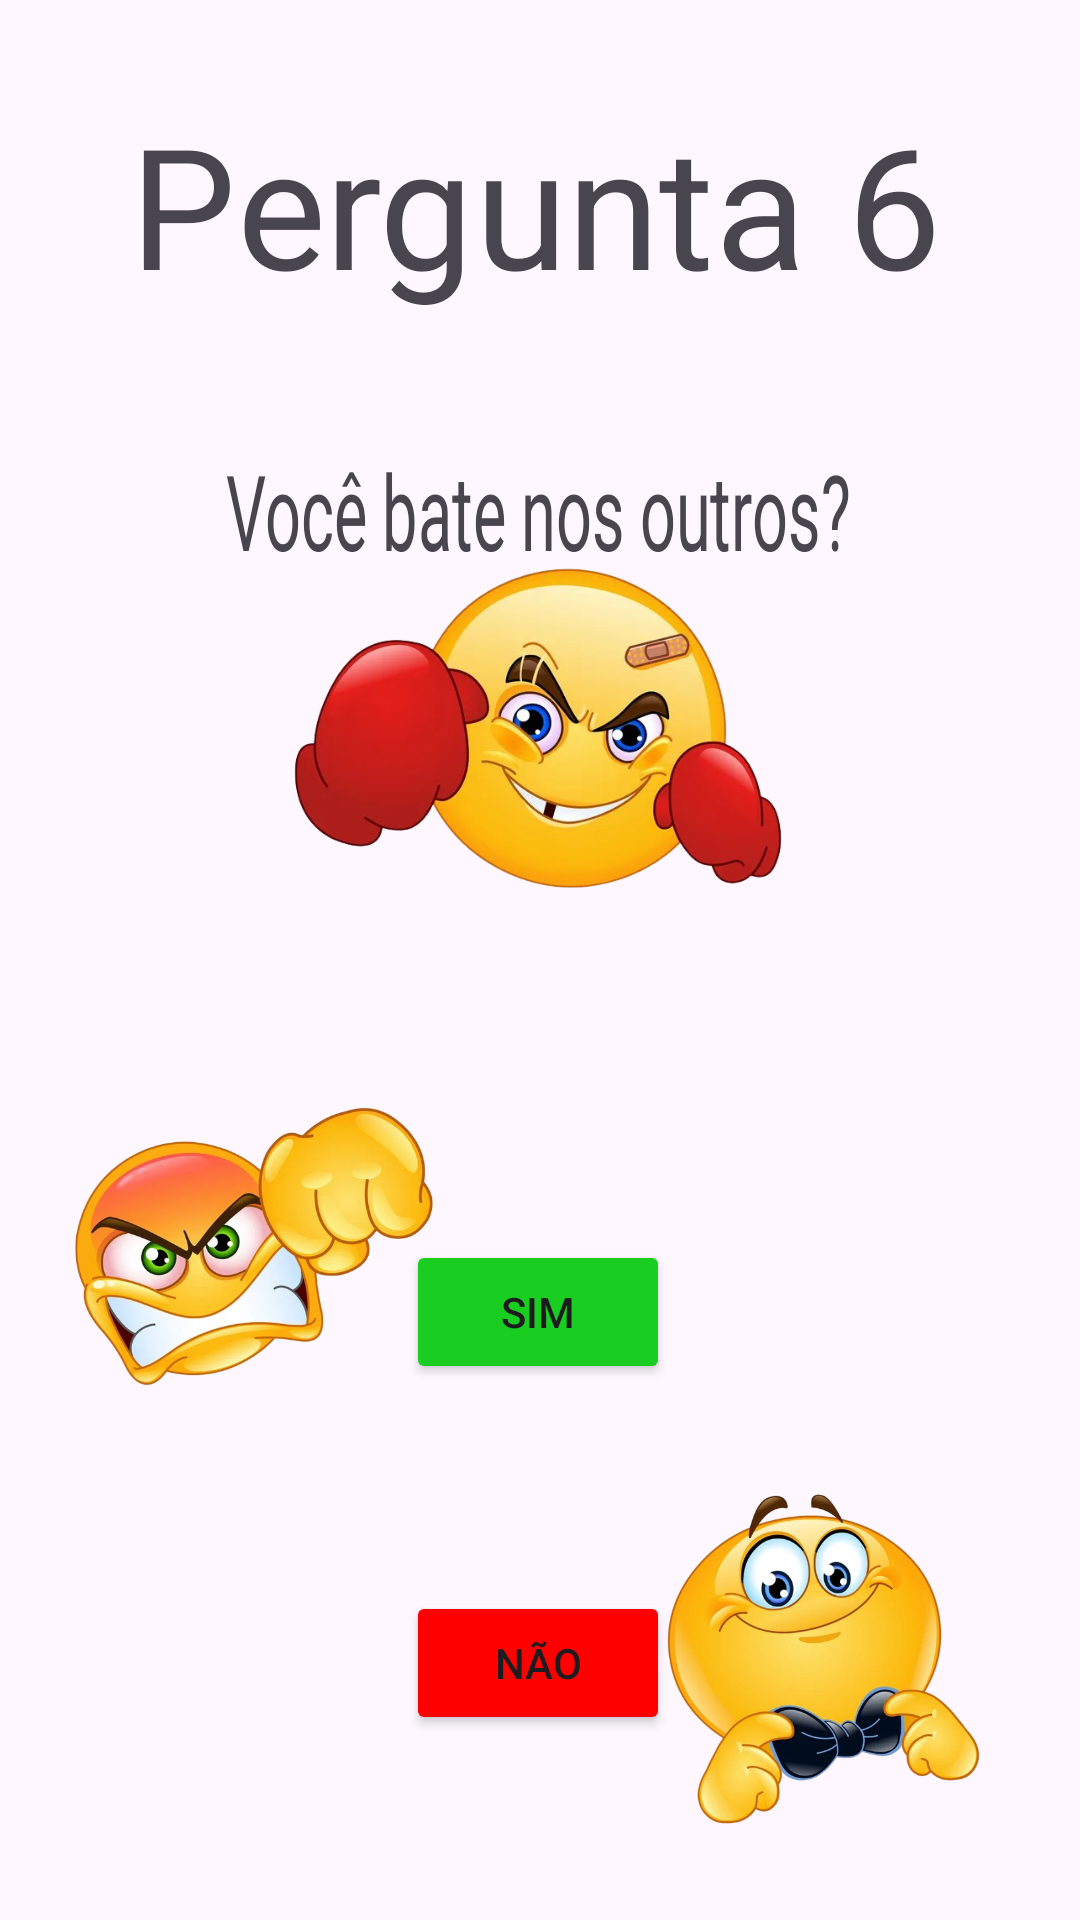

Icon bounding boxes for this 1080px×1920px phone screenshot, format (x1, y1, x2, y2):
elegante: (667, 1494, 979, 1824)
